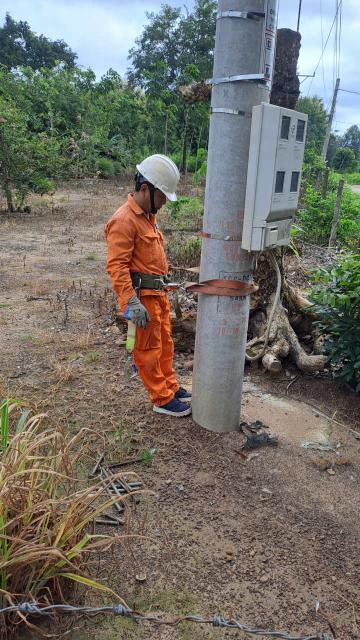gloves: (112, 297, 158, 330)
harness: (113, 263, 177, 298)
helmet: (129, 150, 185, 212)
shoes: (153, 380, 196, 401), (152, 397, 192, 418)
